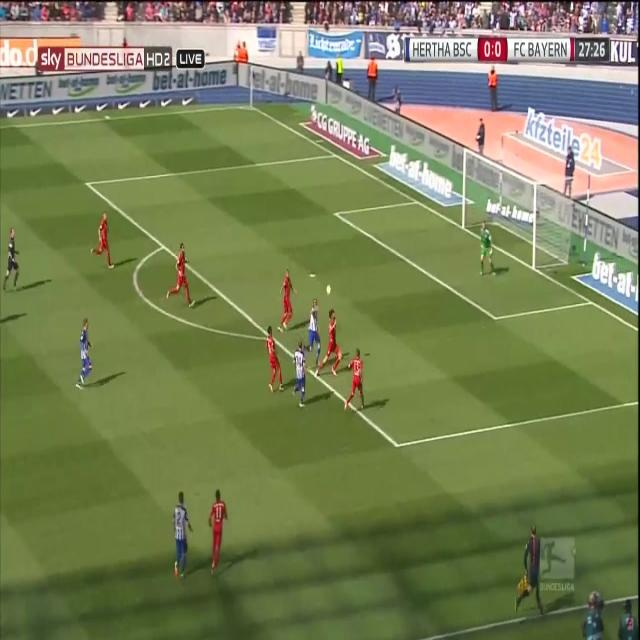Ball: (324, 280, 333, 298)
Goalkeeper: (475, 216, 498, 282)
Player: (314, 305, 346, 384), (164, 239, 197, 310), (206, 489, 230, 579), (172, 491, 196, 580), (343, 346, 369, 416), (72, 315, 94, 397), (262, 324, 286, 396), (89, 210, 115, 272), (287, 340, 309, 411), (304, 296, 324, 370), (278, 268, 298, 338)
Referee: (512, 522, 549, 622), (1, 221, 26, 301)
